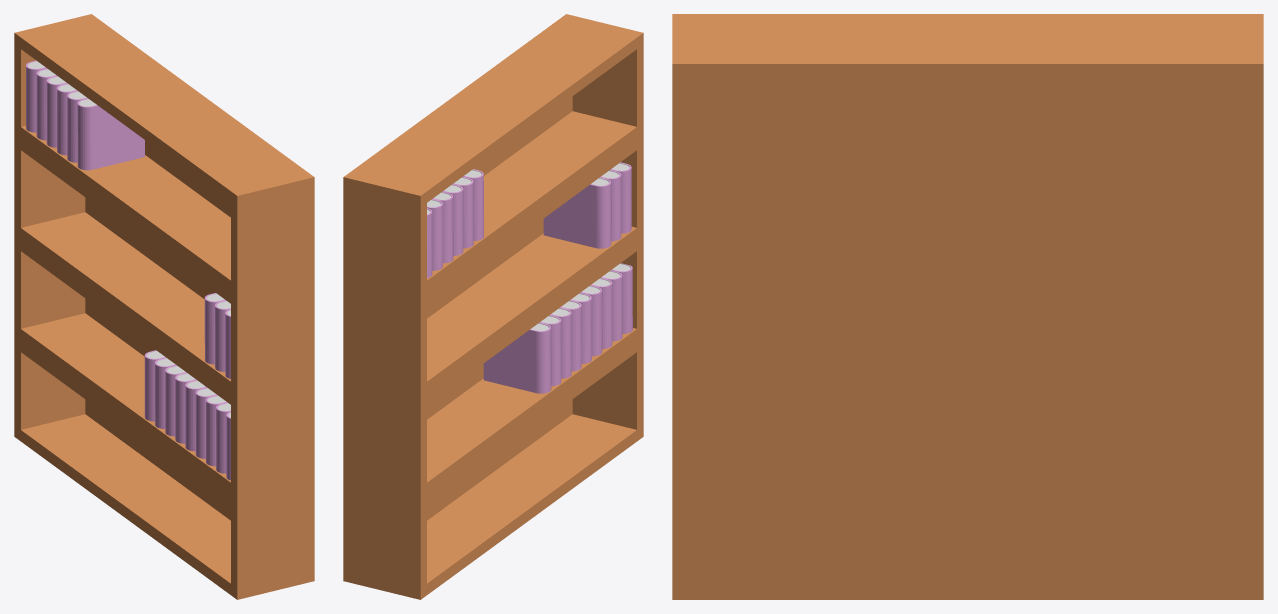
File: libreroMoradoC.glb
The picture shows the model from 3 angles, left to right: view 1: azimuth 30°, elevation 25°; view 2: azimuth 150°, elevation 25°; view 3: azimuth 270°, elevation 25°; orthographic projection. The views are drawn at different scales.
Visible parts, largest first — view 1: Librero; view 2: Librero; view 3: Librero.
Boxes of the visible parts, x1,y1,x2,y2 form: Librero: [14, 14, 314, 599]; Librero: [343, 14, 643, 599]; Librero: [672, 14, 1263, 599].
Bounding box in the file's own units: 0.67 × 3.35 × 3.35.
